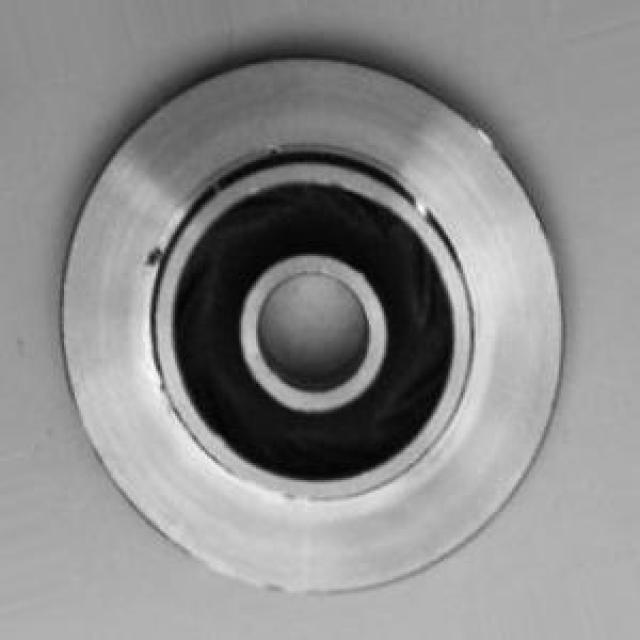Defect: (143, 239, 170, 266)
